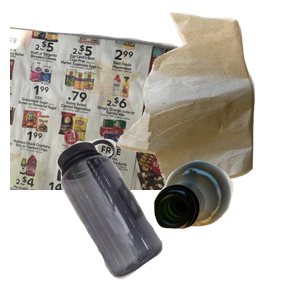glass: (151, 158, 300, 300)
paper: (10, 22, 225, 202)
plastic: (54, 136, 209, 300)
trash: (114, 10, 300, 189)
